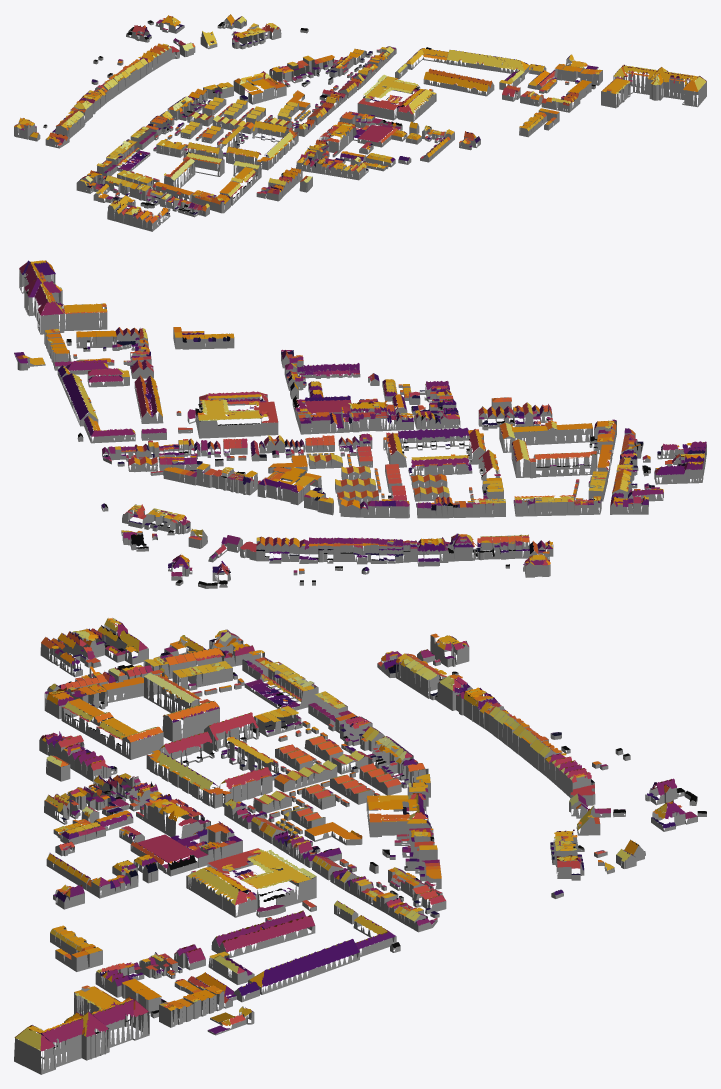
File: binnenstad_84000_448000.glb
3 views of the same model, one above another, from view 1: azimuth 30°, elevation 25°; view 2: azimuth 150°, elevation 25°; view 3: azimuth 270°, elevation 25° (orthographic). The views are drawn at different scales.
Bounding box in the file's own units: 607 × 26.66 × 408.
